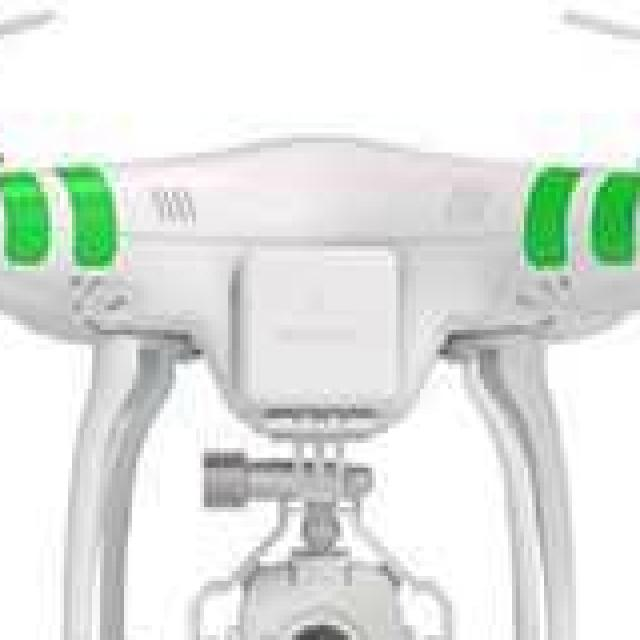drone: (0, 5, 640, 468)
